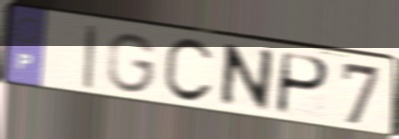7: (339, 59, 383, 127)
C: (161, 37, 217, 106)
G: (106, 31, 160, 96)
I: (81, 23, 100, 93)
N: (215, 42, 277, 115)
P: (273, 50, 332, 119)
